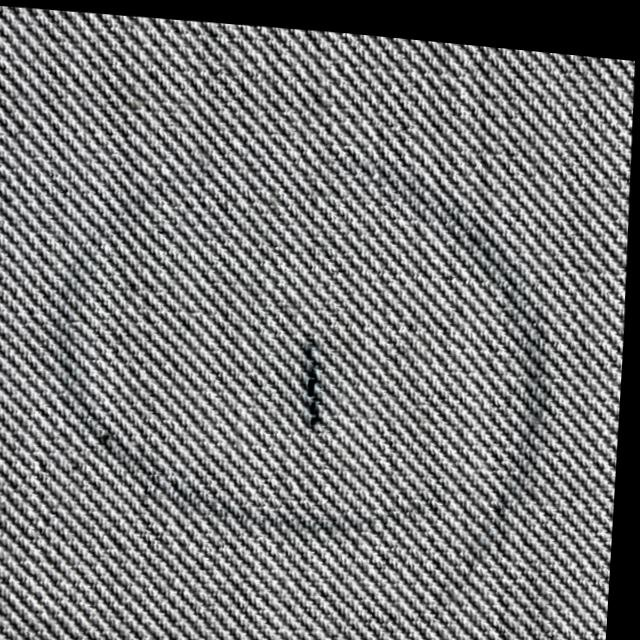Hole: (285, 336, 331, 436), (293, 339, 338, 435)
